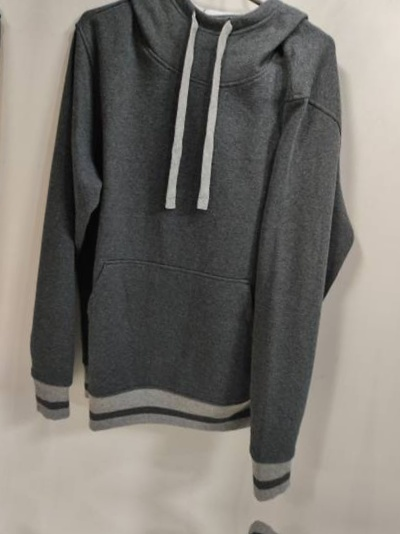Hoodie: (7, 0, 382, 500), (0, 0, 25, 458), (0, 501, 319, 534), (400, 3, 400, 534)
